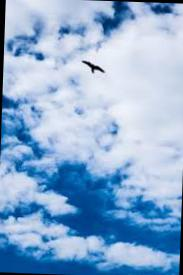bird: (74, 52, 108, 78)
